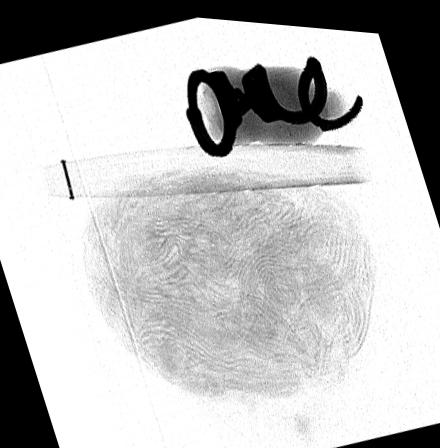HandCuffs: (185, 50, 363, 153)
